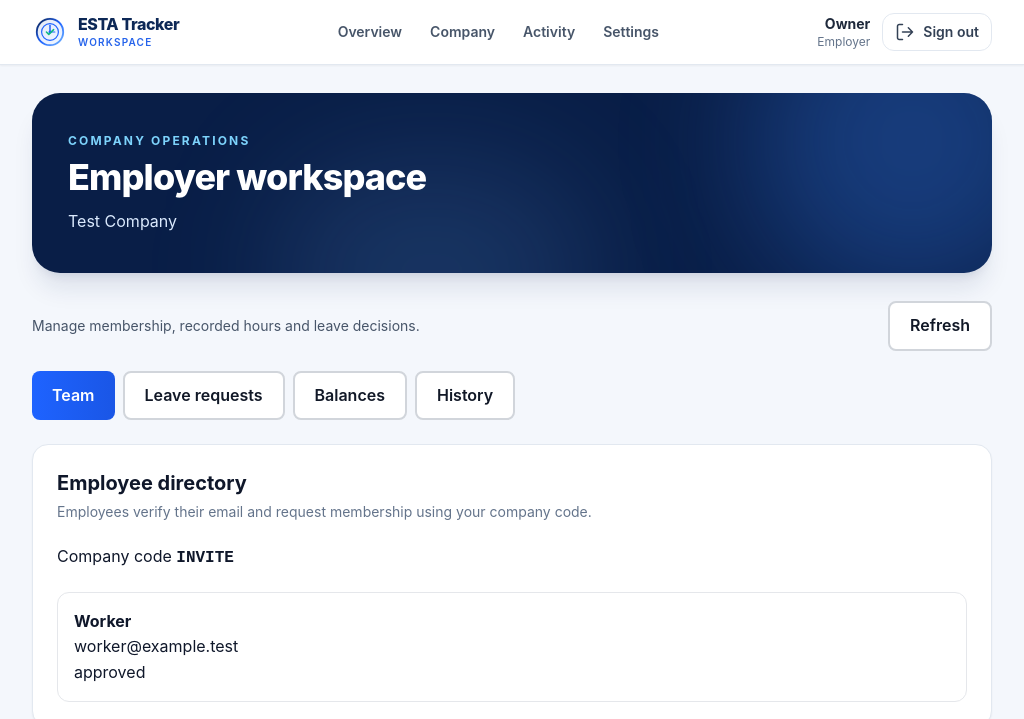
connected employer workspace › does not show missing approved employee balances as zero
Click the tab "Balances".
click(350, 395)  # box [292,371,407,420]
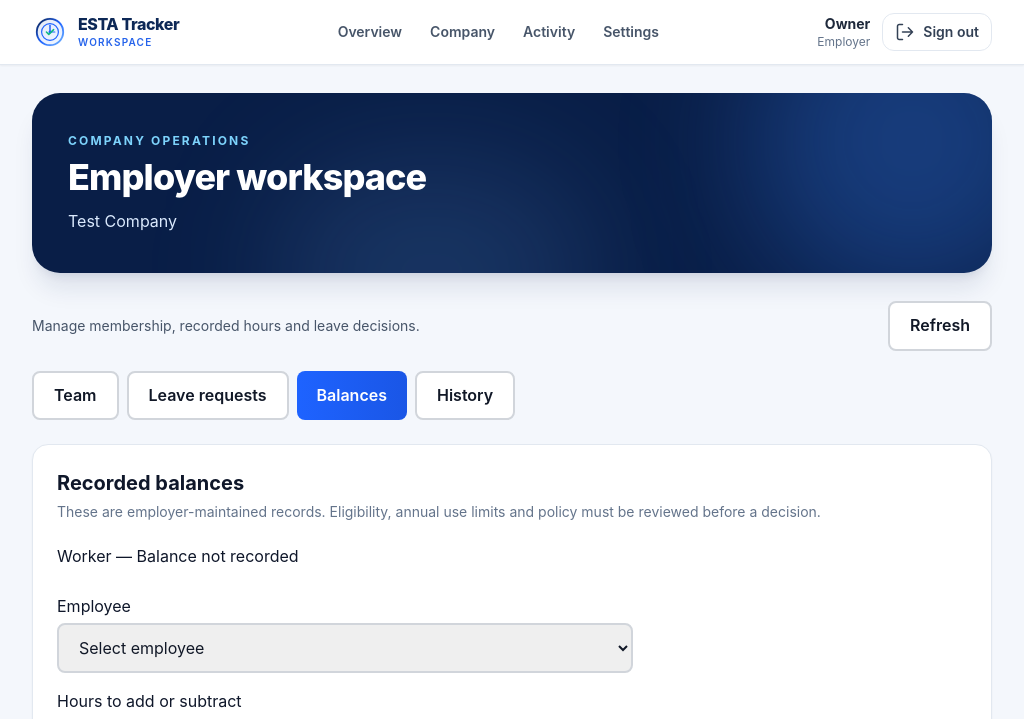
Check: the list item "Worker — Balance not recorded" is shown, box [57,546,299,566]
